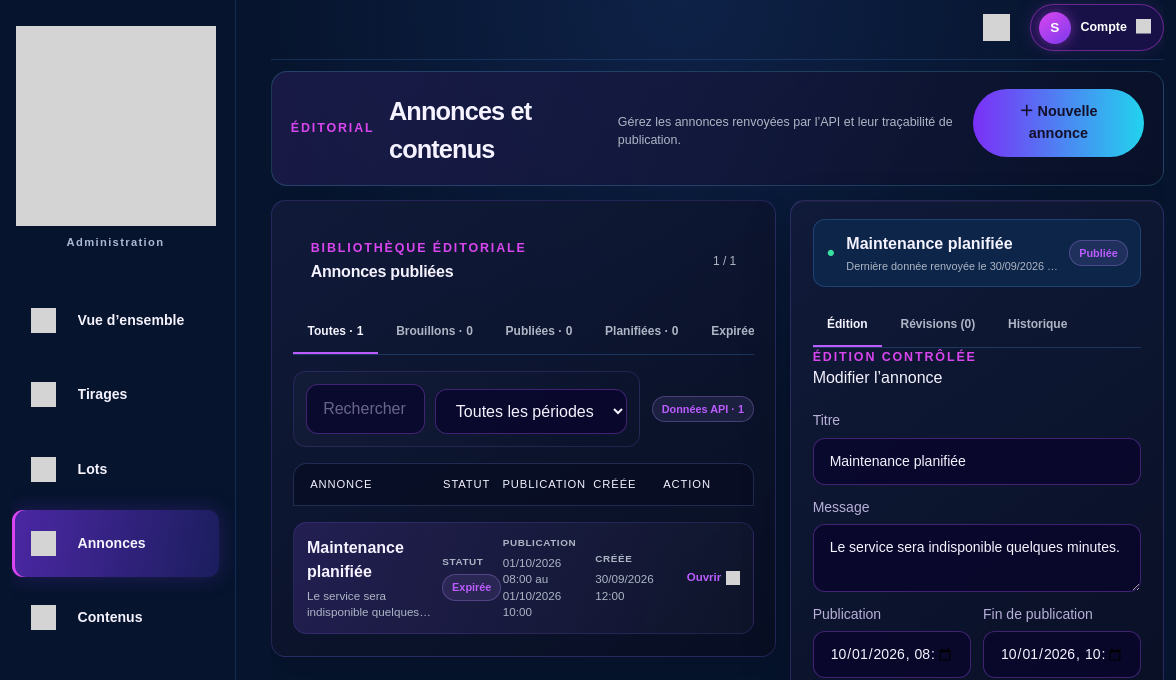
Test: réinitialise l’éditeur pour créer une annonce sans débordement de formulaire
The image size is (1176, 680).
Click the button "＋ Nouvelle annonce".
click(1058, 123)  # box [973, 89, 1144, 157]
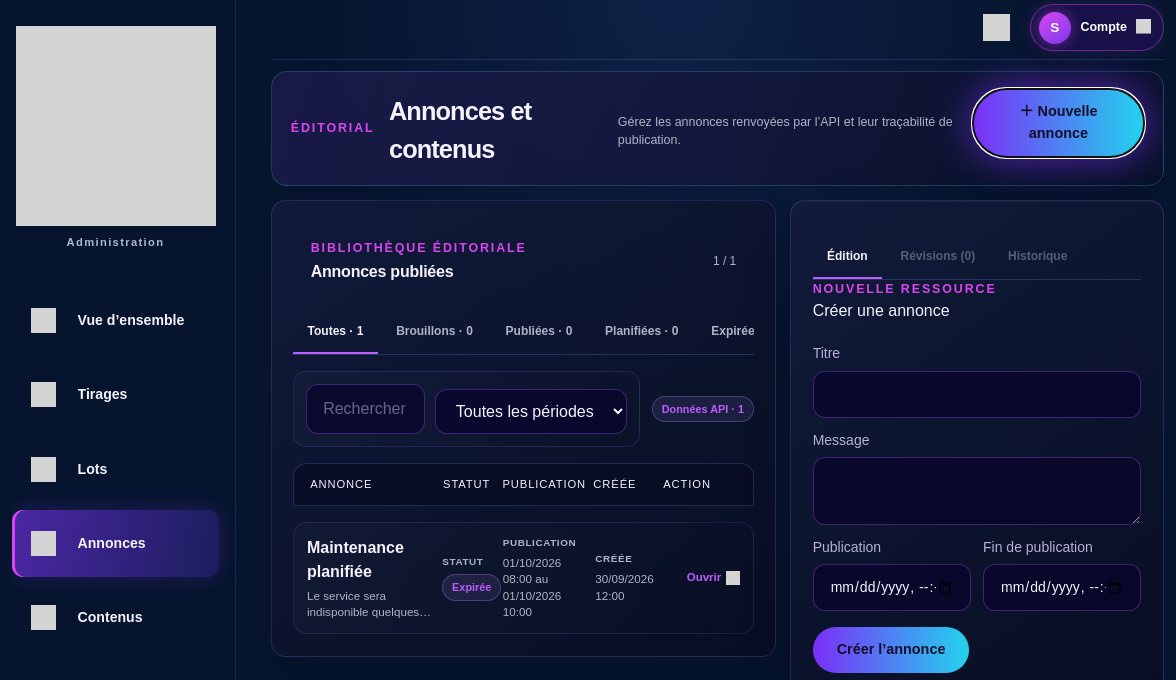
Check: the heading "Créer une annonce" is shown, box [813, 302, 950, 319]
Check: the field labelled "Titre" is empty, box [813, 370, 1141, 418]
Check: the text box labelled "Message" is empty, box [813, 457, 1141, 525]
